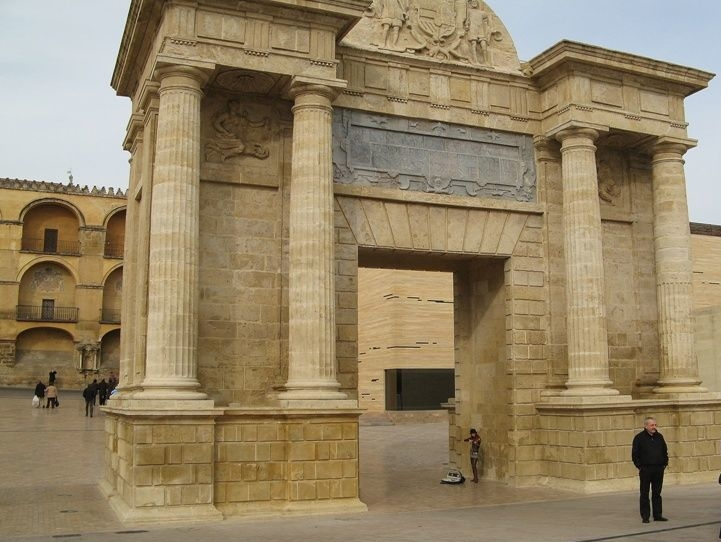vano-adintelado: (332, 225, 533, 503)
